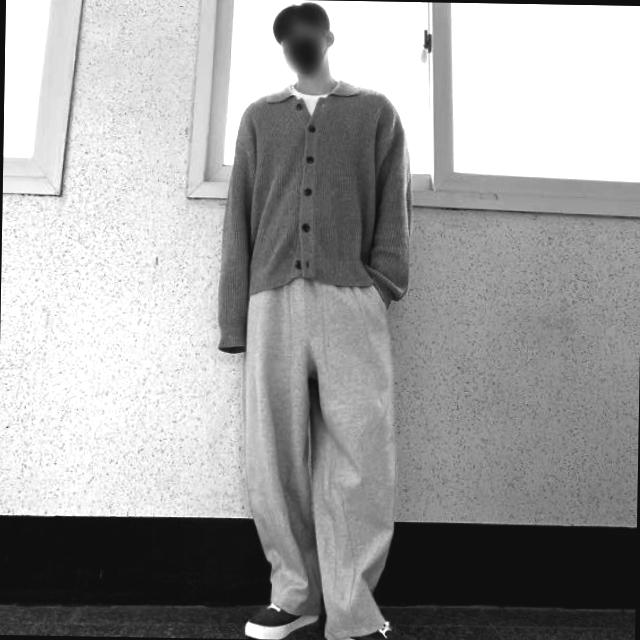cardigan: (216, 74, 414, 359)
trainingpants: (238, 276, 398, 638)
